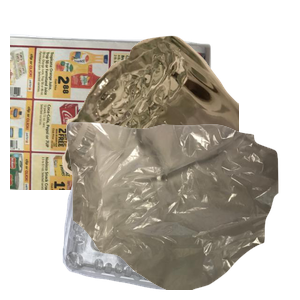glass: (60, 33, 300, 213)
paper: (10, 31, 214, 211)
plastic: (60, 141, 263, 300)
trash: (64, 120, 300, 300)
